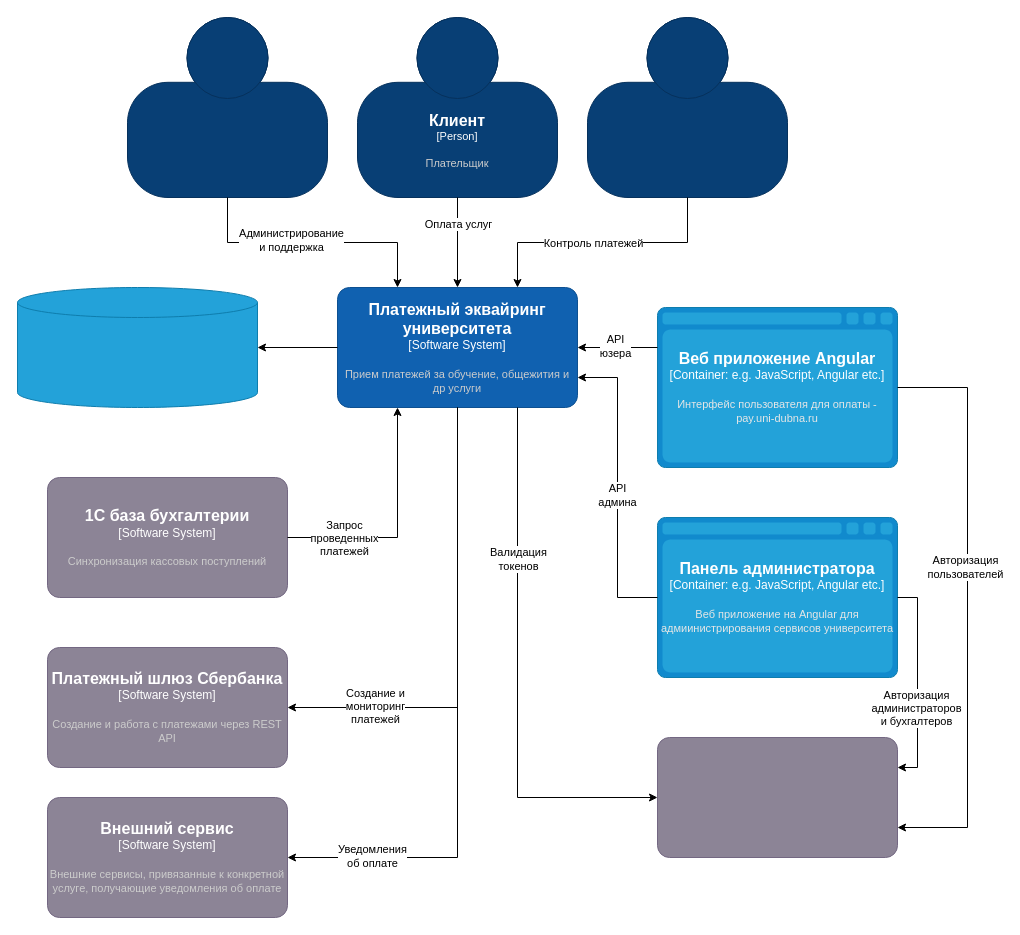
Some shapes in this 1020 by 935 pixel diagram are drawn without their labels. The shapes that lost their labels are listed below. From the top down, each one's centre as x and y in pixels, then its label:
At pixel 227 107: "Admin [Person] Администратор системы".
At pixel 687 107: "Бухгалтер [Person] Администратор с ограниченными правами доступа".
At pixel 137 347: "База данных [Container: PostgreSQL] База данных пользователей, платежей, услуг".
At pixel 777 797: "Keycloak [Software System] Авторизация и разграничение ролей доступа".
